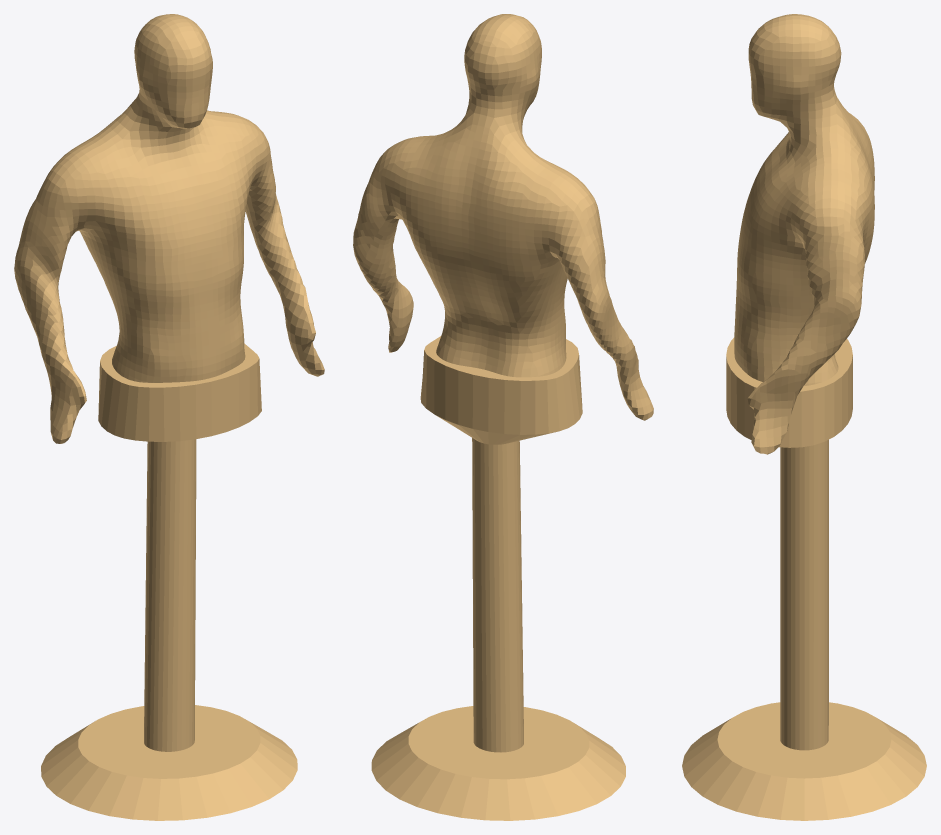
3 views of the same model, side by side, from view 1: azimuth 30°, elevation 25°; view 2: azimuth 150°, elevation 25°; view 3: azimuth 270°, elevation 25° (orthographic).
Visible parts, largest first — view 1: маникен; view 2: маникен; view 3: маникен.
Boxes of the visible parts, x1=… form: маникен: x1=14, y1=14, x2=324, y2=820; маникен: x1=353, y1=14, x2=653, y2=820; маникен: x1=682, y1=14, x2=926, y2=820.
Size of the model in its own units: 1284 by 3492 by 1036.
